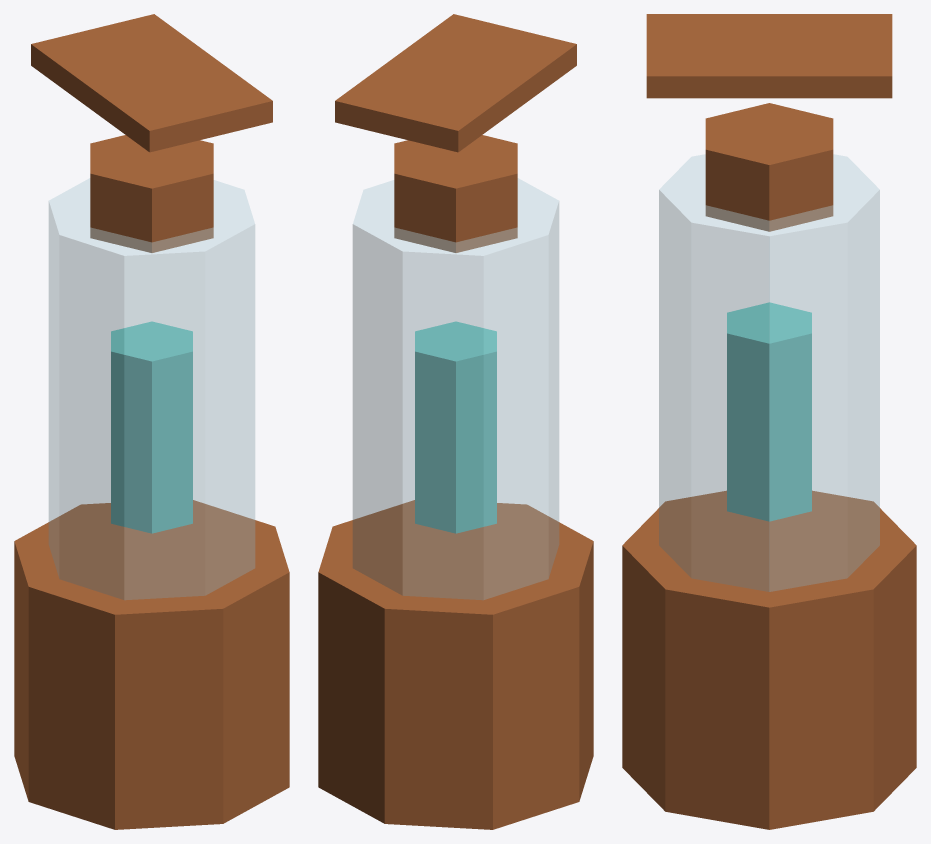
Rendered from GD_KeroseneLamp_01.glb.
3 renders of one model, left to right at view 1: azimuth 30°, elevation 25°; view 2: azimuth 150°, elevation 25°; view 3: azimuth 270°, elevation 25°, orthographic. The views are drawn at different scales.
Visible parts, largest first — view 1: GD_KeroseneLamp_01; view 2: GD_KeroseneLamp_01; view 3: GD_KeroseneLamp_01.
Part boxes in pixels (bbox=[...]): GD_KeroseneLamp_01: bbox=[14, 14, 289, 829]; GD_KeroseneLamp_01: bbox=[318, 14, 593, 829]; GD_KeroseneLamp_01: bbox=[622, 14, 916, 829].
Size of the model in its own units: 0.12 by 0.325 by 0.12.
2 materials, 2 textured.
